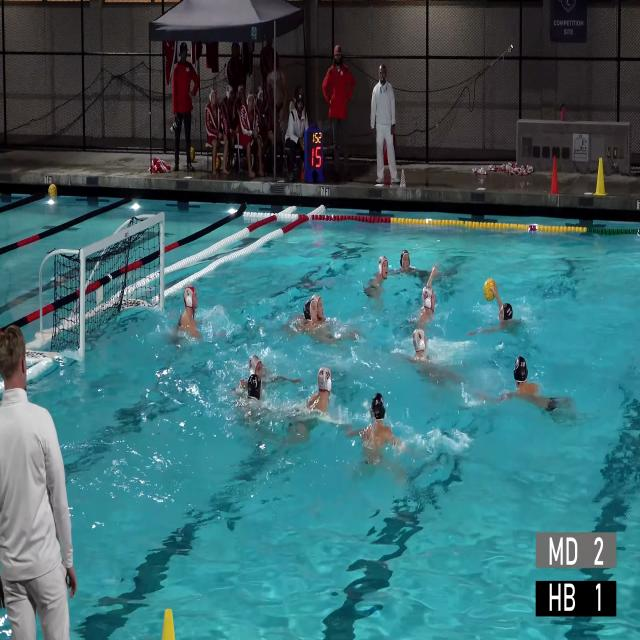ball: (484, 278, 495, 302), (48, 184, 57, 198), (216, 154, 222, 170), (191, 147, 195, 162)
